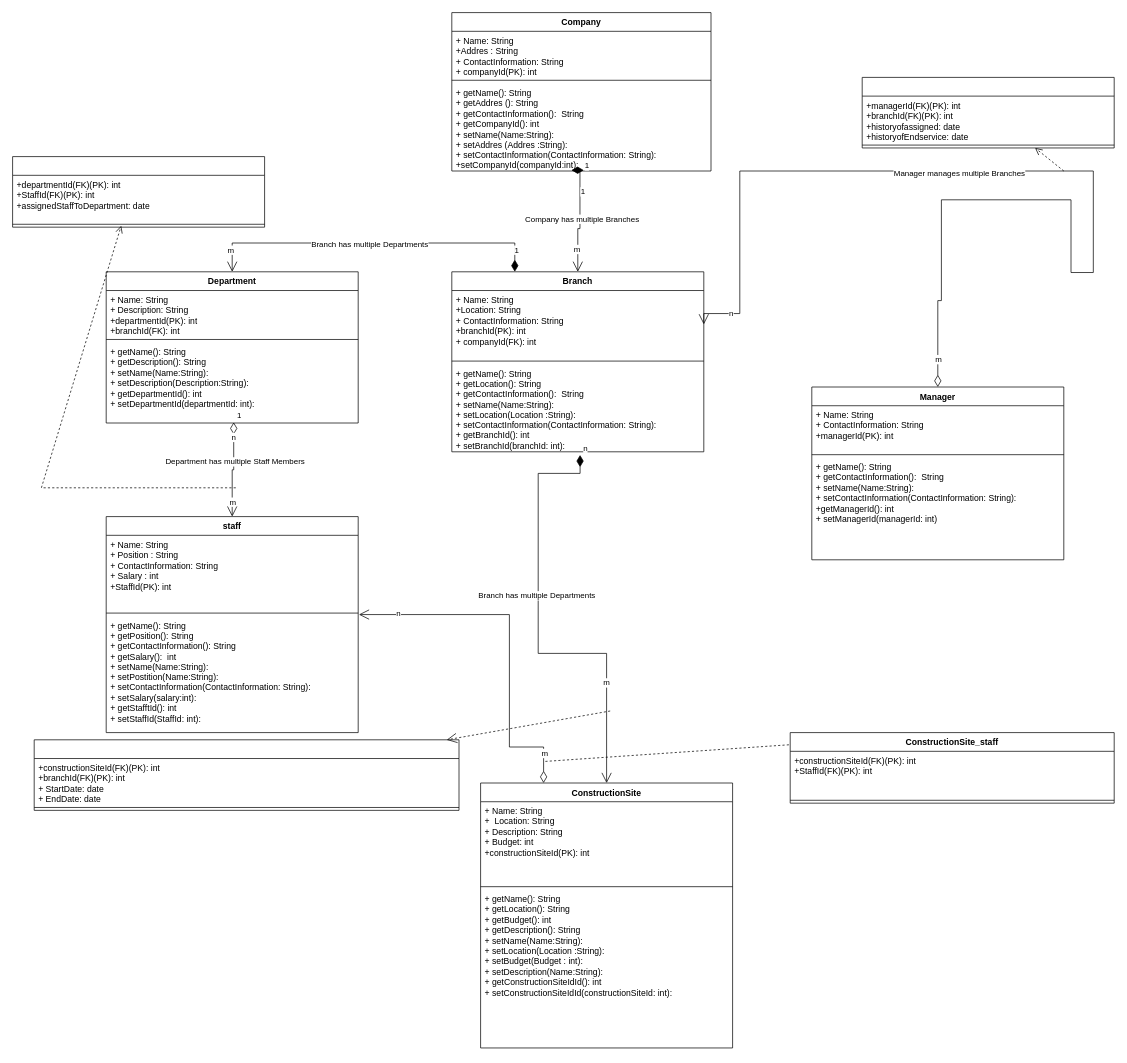
Some shapes in this 1127 by 1063 pixel diagram are drawn without their labels. The shapes that lost their labels are listed below. From the top down, each one's box as (x1, y1, x2, y2) in pixels, then its label:
(861, 77, 1114, 148): Manger_branch
(12, 156, 265, 227): staff _ Department
(33, 739, 459, 810): ConstructionSite _branch
